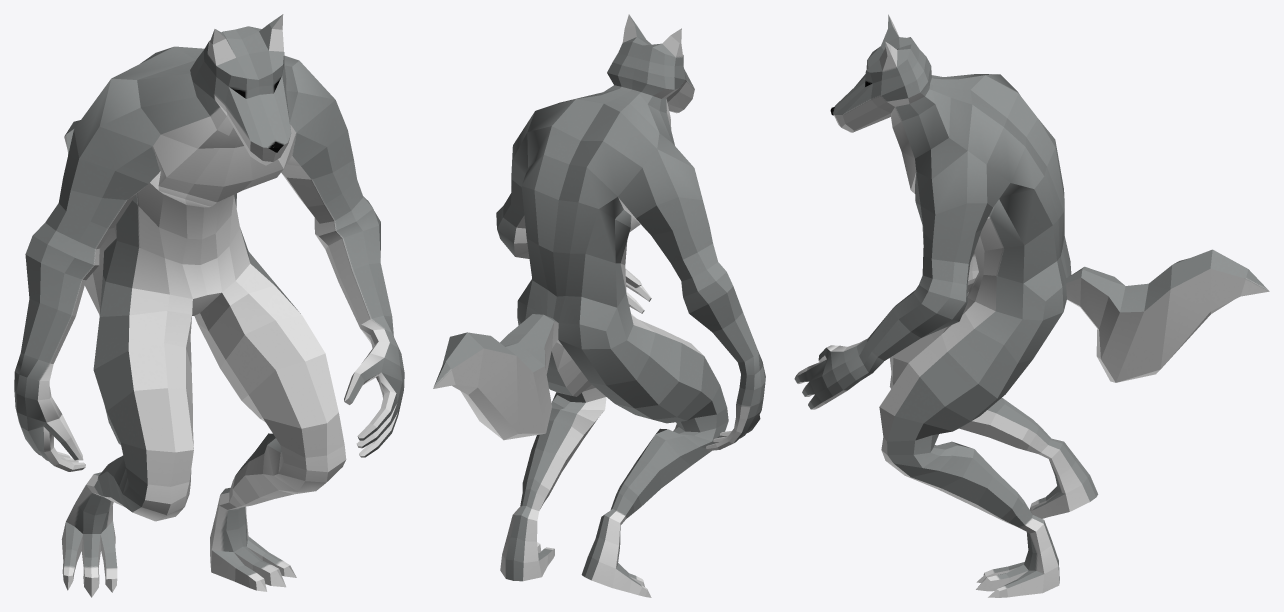
File: WolfWalk(20).obj
3 renders of one model, left to right at view 1: azimuth 30°, elevation 25°; view 2: azimuth 150°, elevation 25°; view 3: azimuth 270°, elevation 25°, orthographic. The views are drawn at different scales.
Parts seen in each view (by area): view 1: Box001; view 2: Box001; view 3: Box001.
Part boxes in pixels (left/top/right/bottom): Box001: left=14, top=14, right=404, bottom=597; Box001: left=433, top=14, right=765, bottom=597; Box001: left=794, top=14, right=1269, bottom=597.
Bounding box in the file's own units: 76.27 × 133 × 109.
